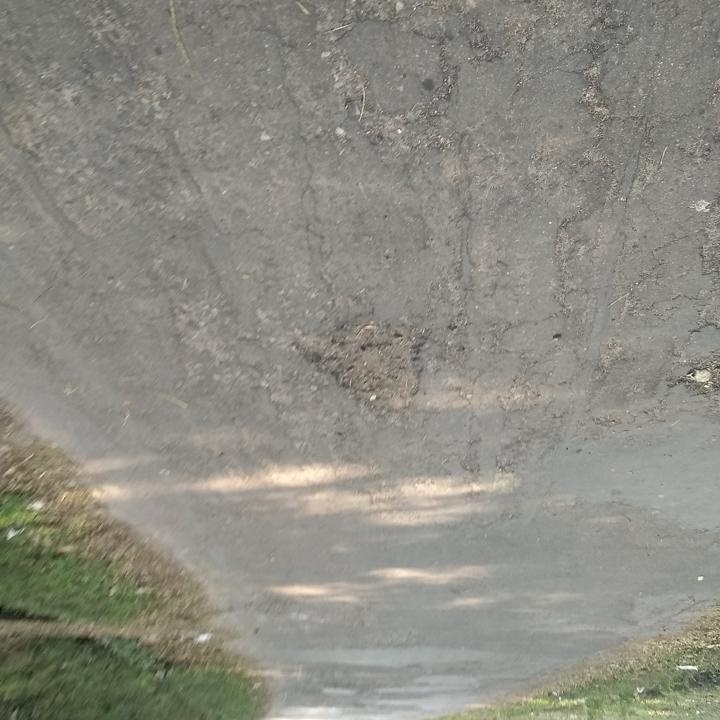pothole: (286, 309, 433, 424), (660, 351, 719, 400)
